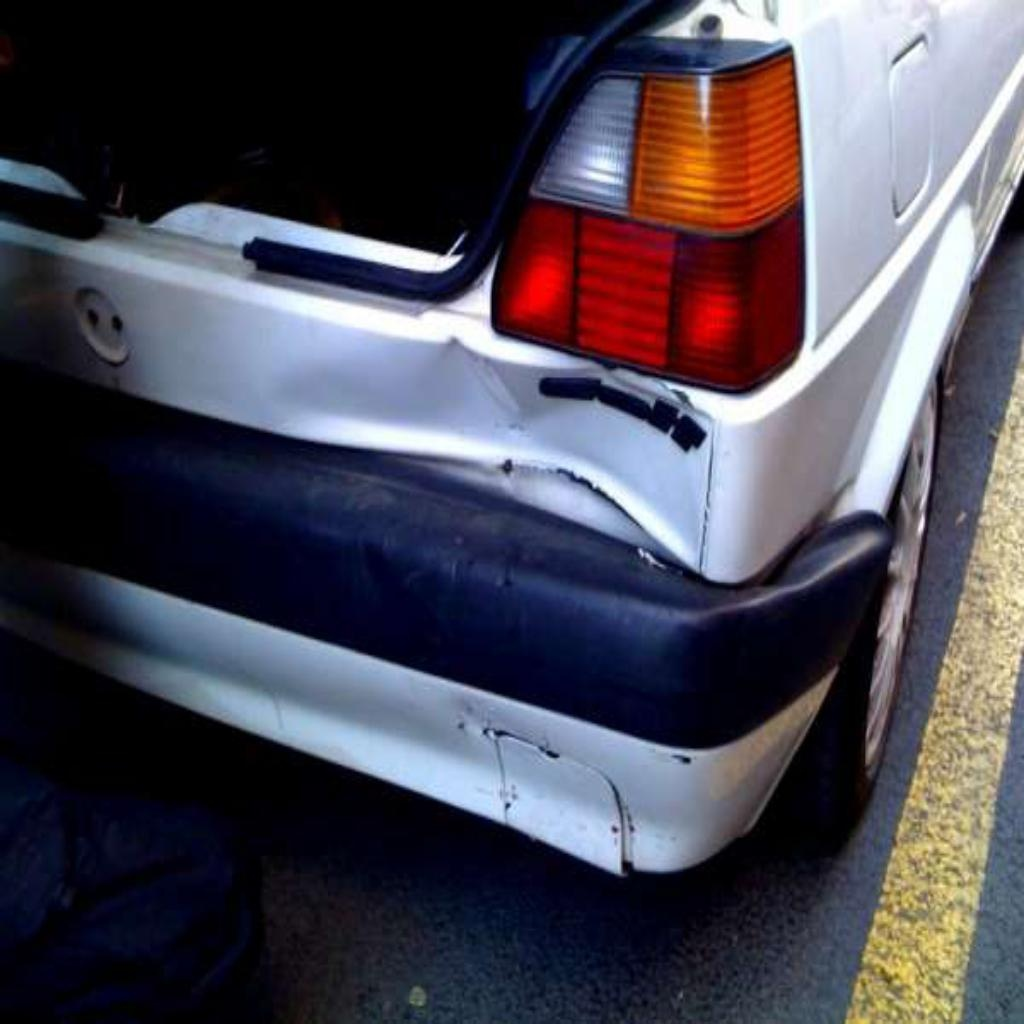Dent: (265, 329, 726, 601)
